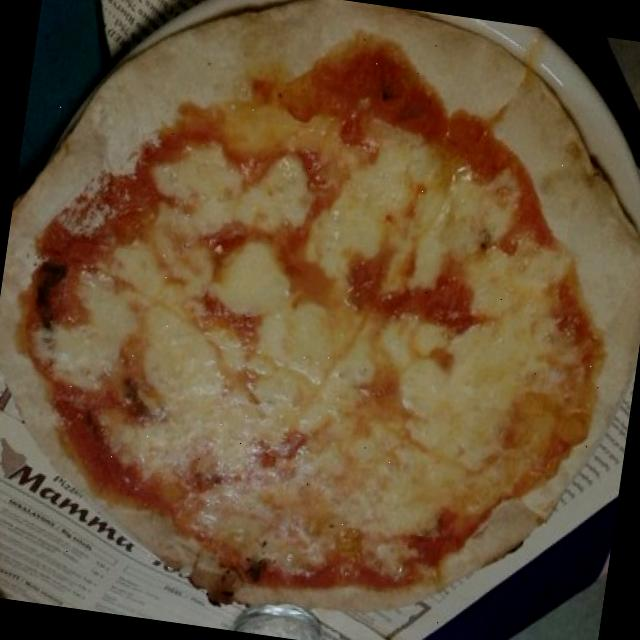cheese: (134, 110, 410, 522), (310, 220, 498, 551), (398, 179, 572, 415), (48, 242, 185, 414)
pizza: (0, 0, 640, 607)
